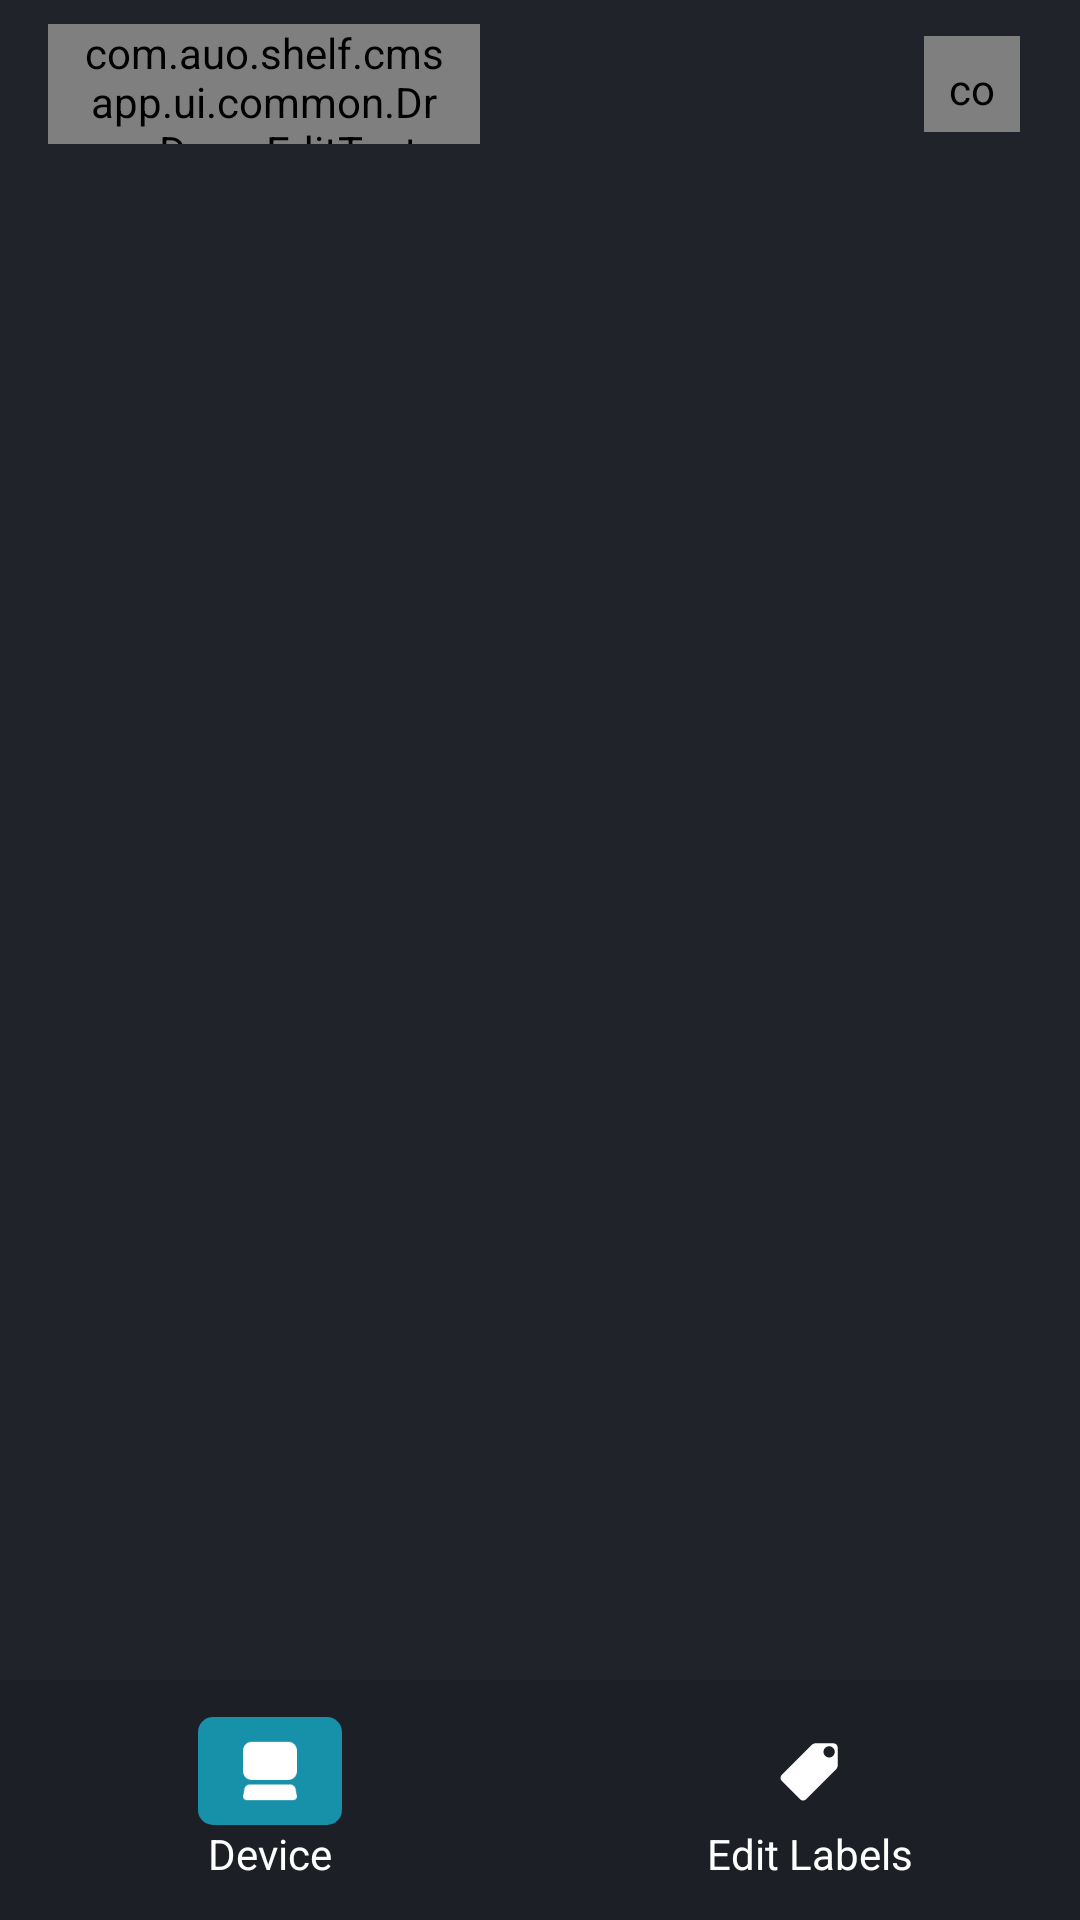

Named icons in this screenshot (1080*1920) and their bounding boxes, detection(x1, y1, x2, y2):
computer: detection(243, 1741, 297, 1801)
